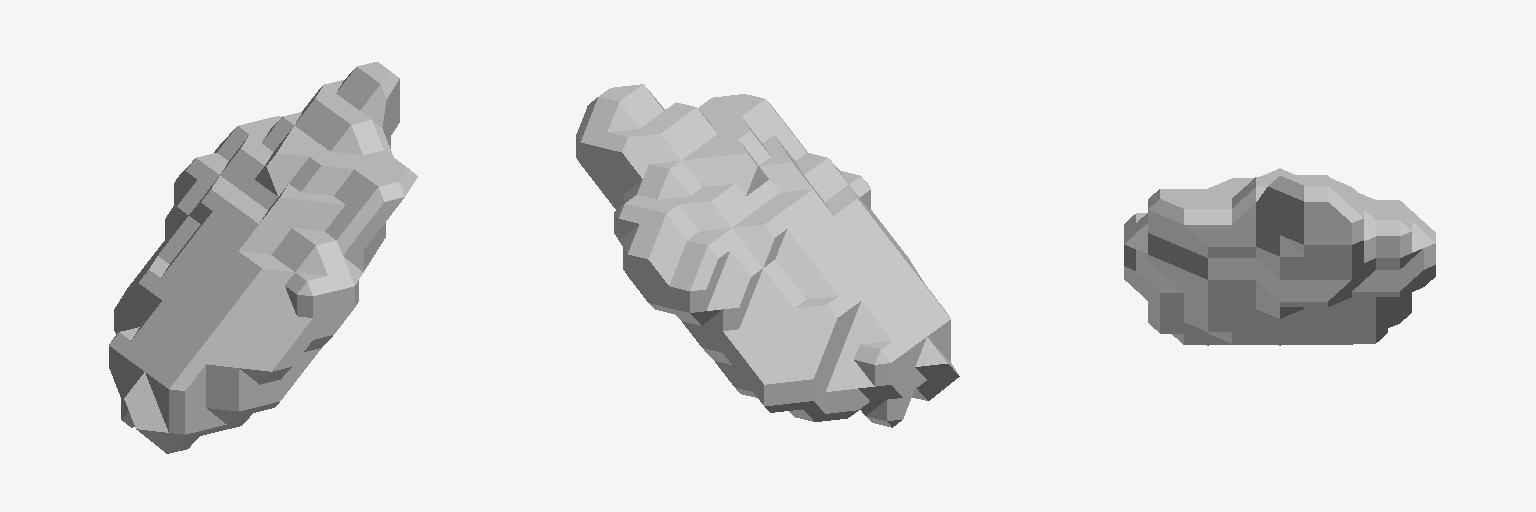
File: brein_01.obj
The picture shows the model from 3 angles: view 1: azimuth 30°, elevation 25°; view 2: azimuth 150°, elevation 25°; view 3: azimuth 270°, elevation 25°; orthographic projection.
Parts seen in each view (by area): view 1: BI3T_STh_L.001_BI3T_STh_L.002; view 2: BI3T_STh_L.001_BI3T_STh_L.002; view 3: BI3T_STh_L.001_BI3T_STh_L.002.
Boxes of the visible parts, <box> form: BI3T_STh_L.001_BI3T_STh_L.002: <box>109,62,417,453</box>; BI3T_STh_L.001_BI3T_STh_L.002: <box>576,84,959,427</box>; BI3T_STh_L.001_BI3T_STh_L.002: <box>1124,168,1435,345</box>.
Bounding box in the file's own units: 1.42 × 1.23 × 1.23.